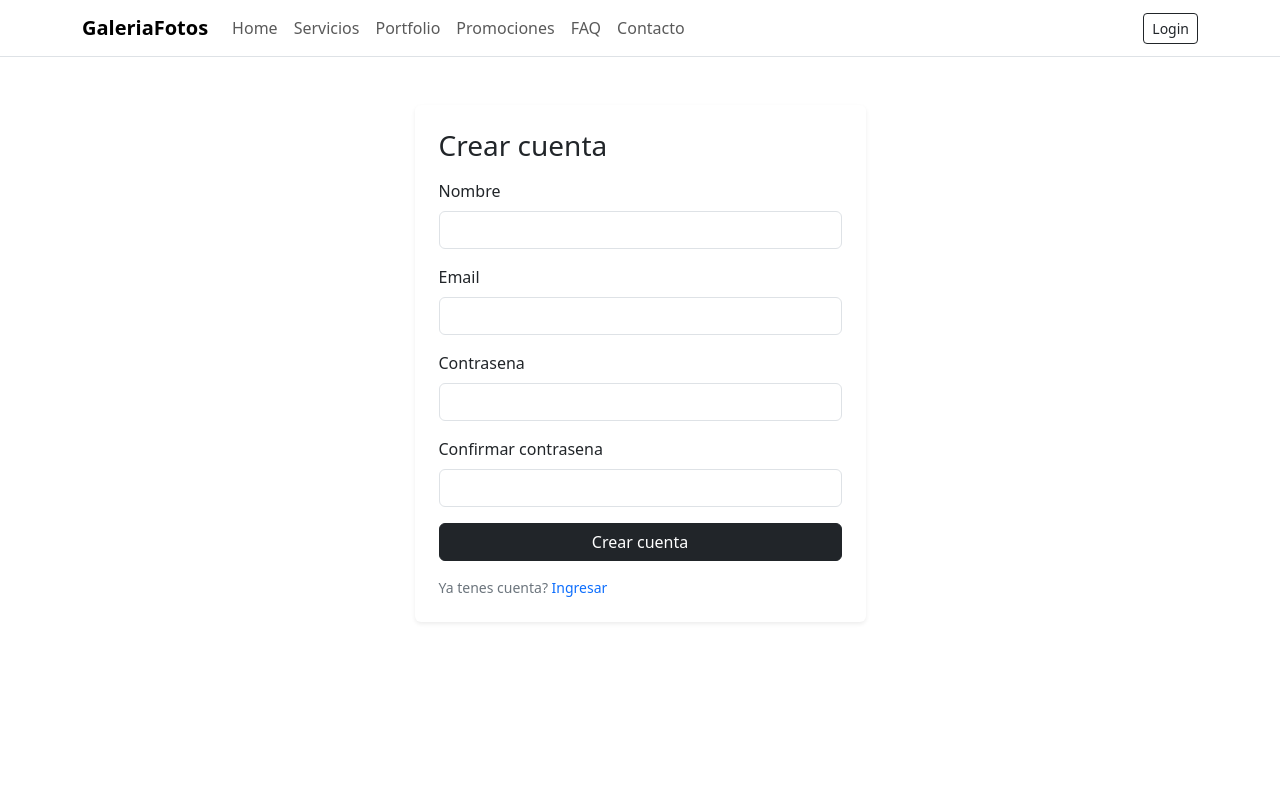
Scenario: RegisterPage › valida confirmacion de password
Type "Cliente Test" into the field labelled "Nombre" at (640, 230), box [438,211,842,249]
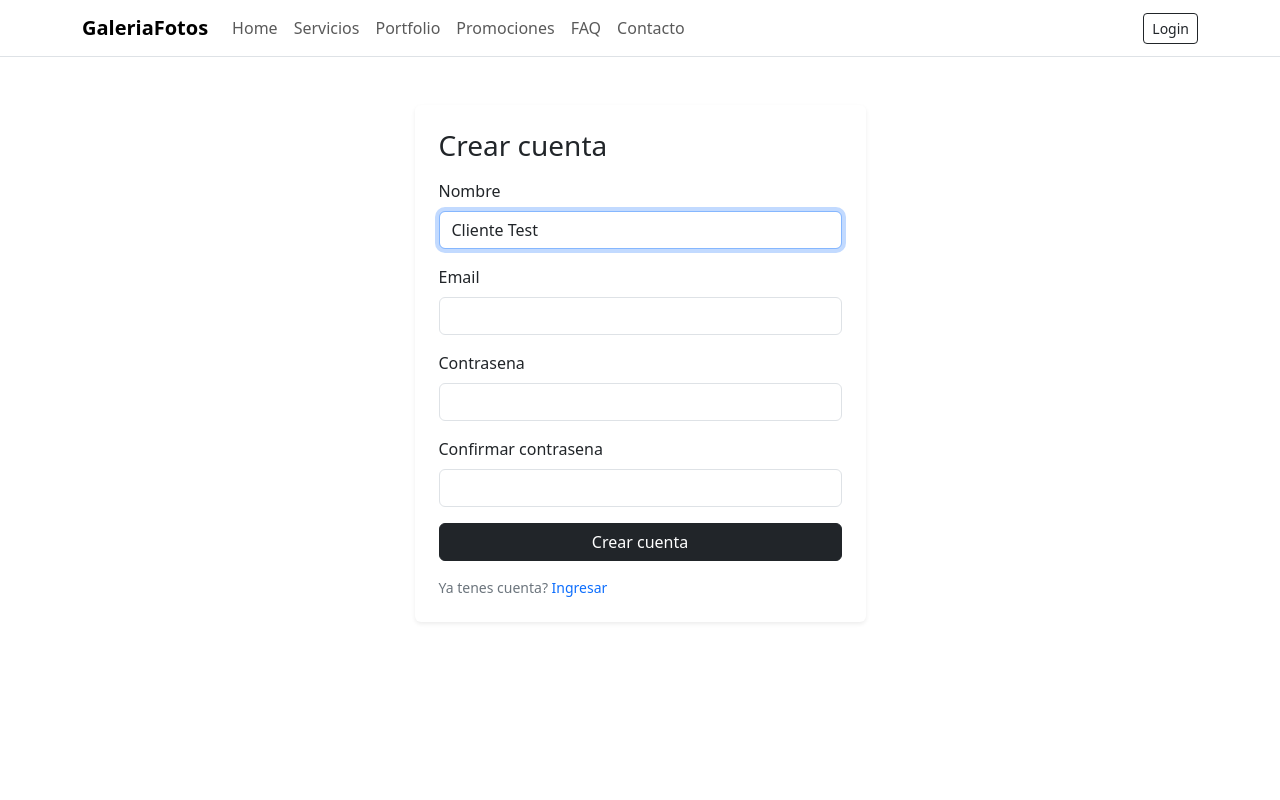
Type "nuevo@test.local" into the field labelled "Email" at (640, 316), box [438,297,842,335]
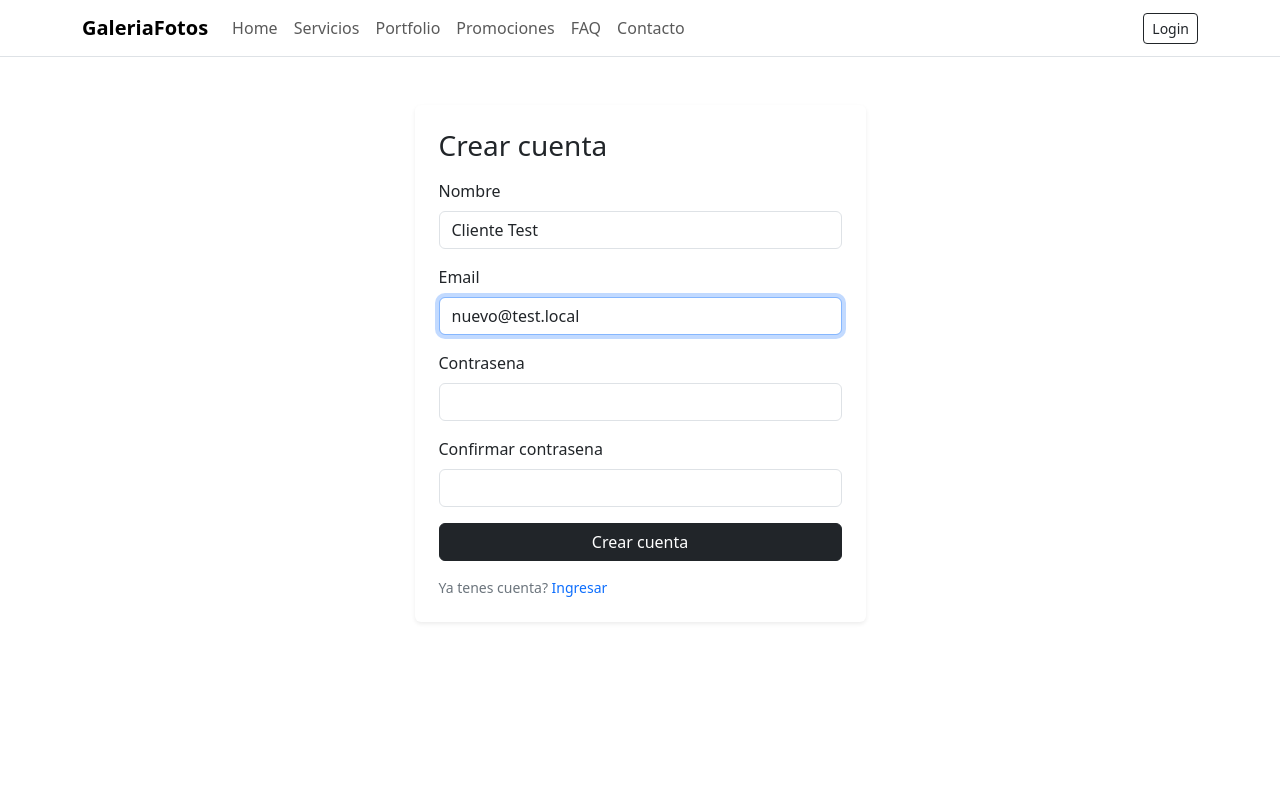
Type "Password123" into the password field labelled "Contrasena" at (640, 402), box [438,383,842,421]
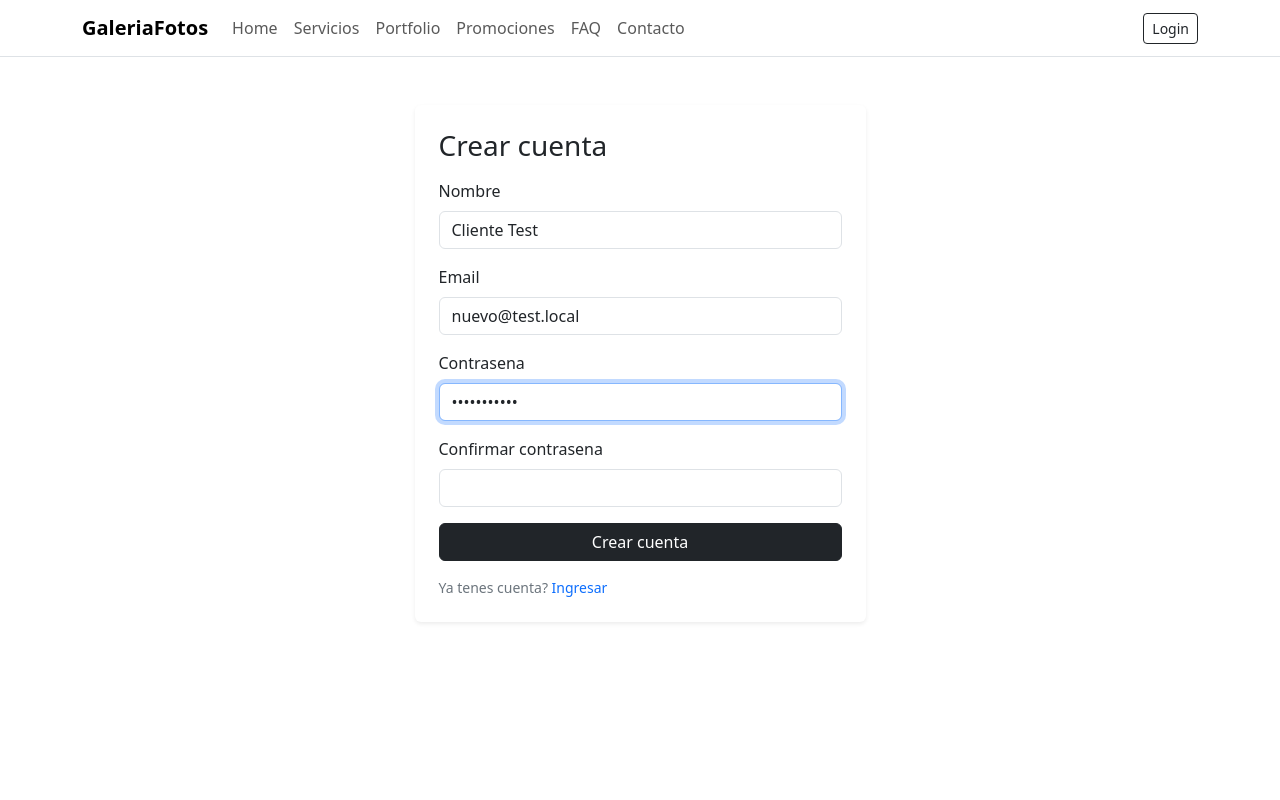
Type "Password456" into the password field labelled "Confirmar contrasena" at (640, 488), box [438,469,842,507]
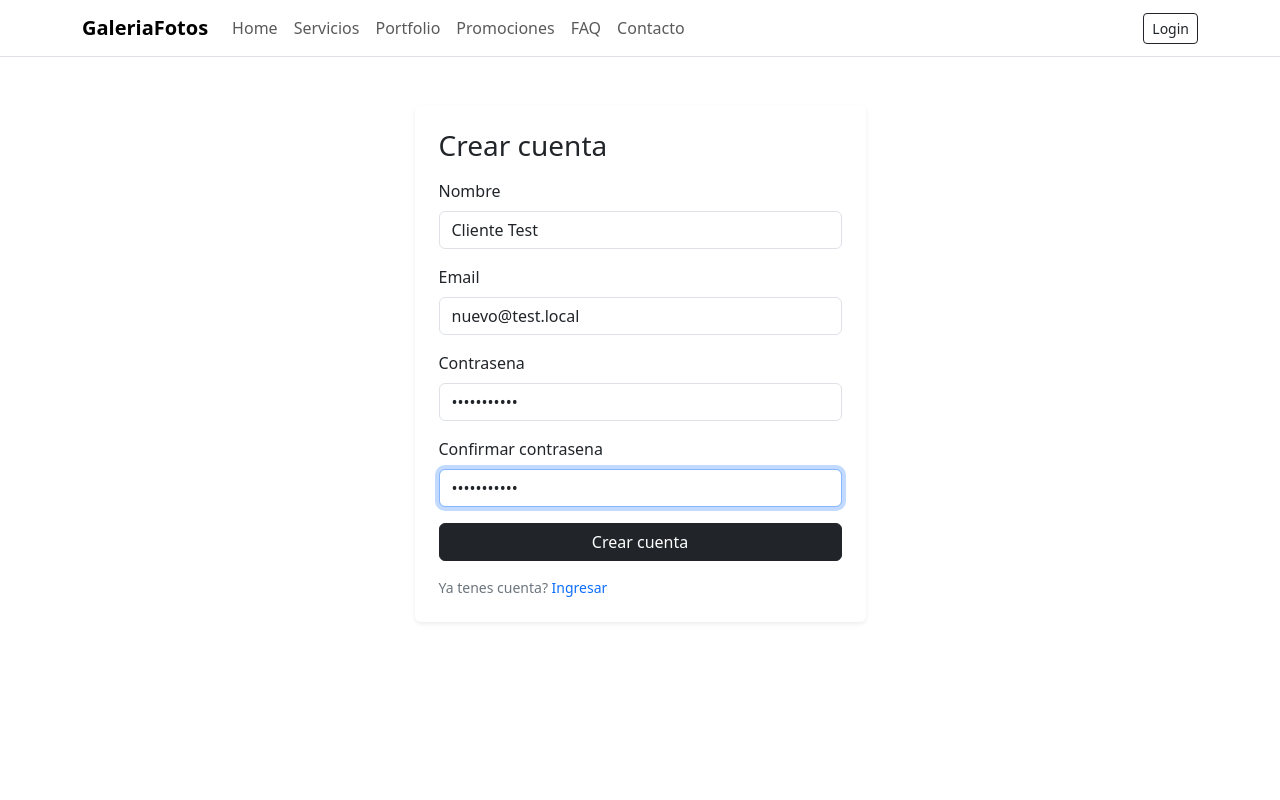
Click the button "Crear cuenta" at (640, 542), box [438,523,842,561]
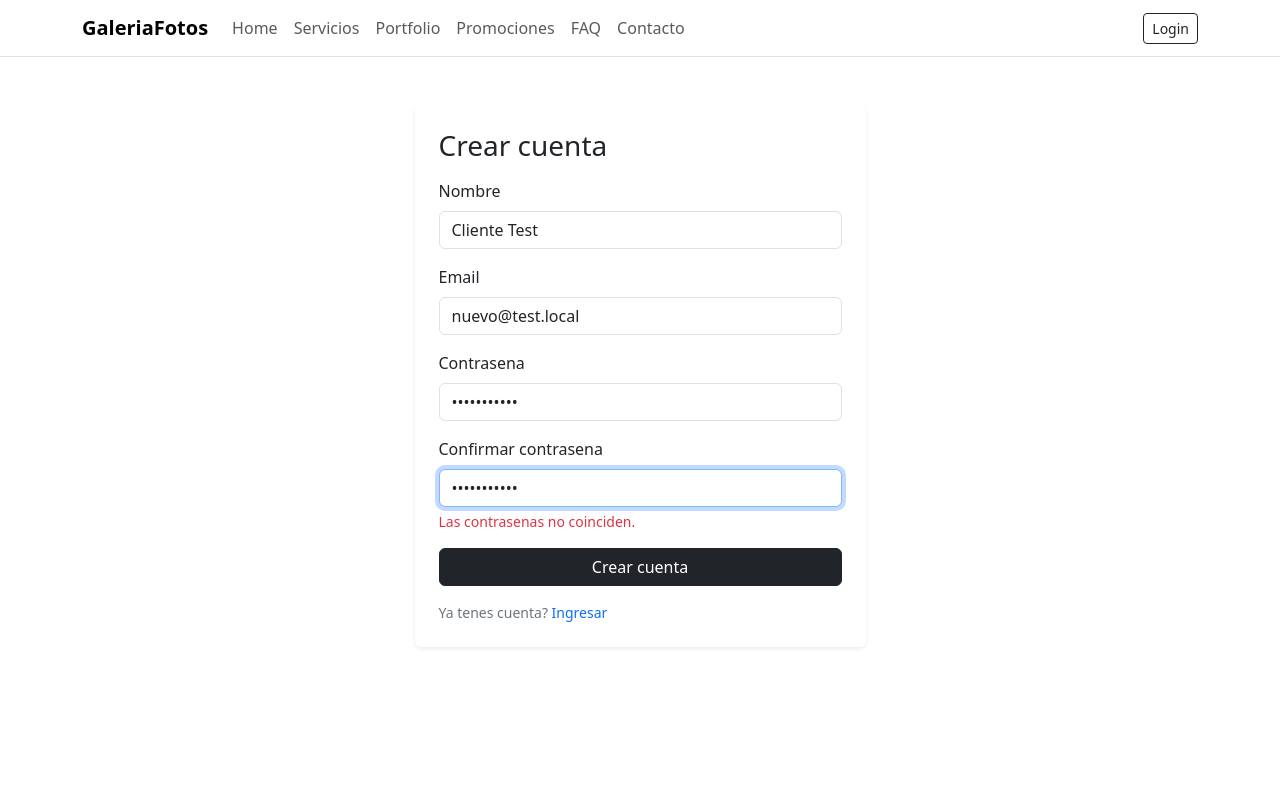
Expected: the text "Las contrasenas no coinciden." is shown, [438,512,635,531]
